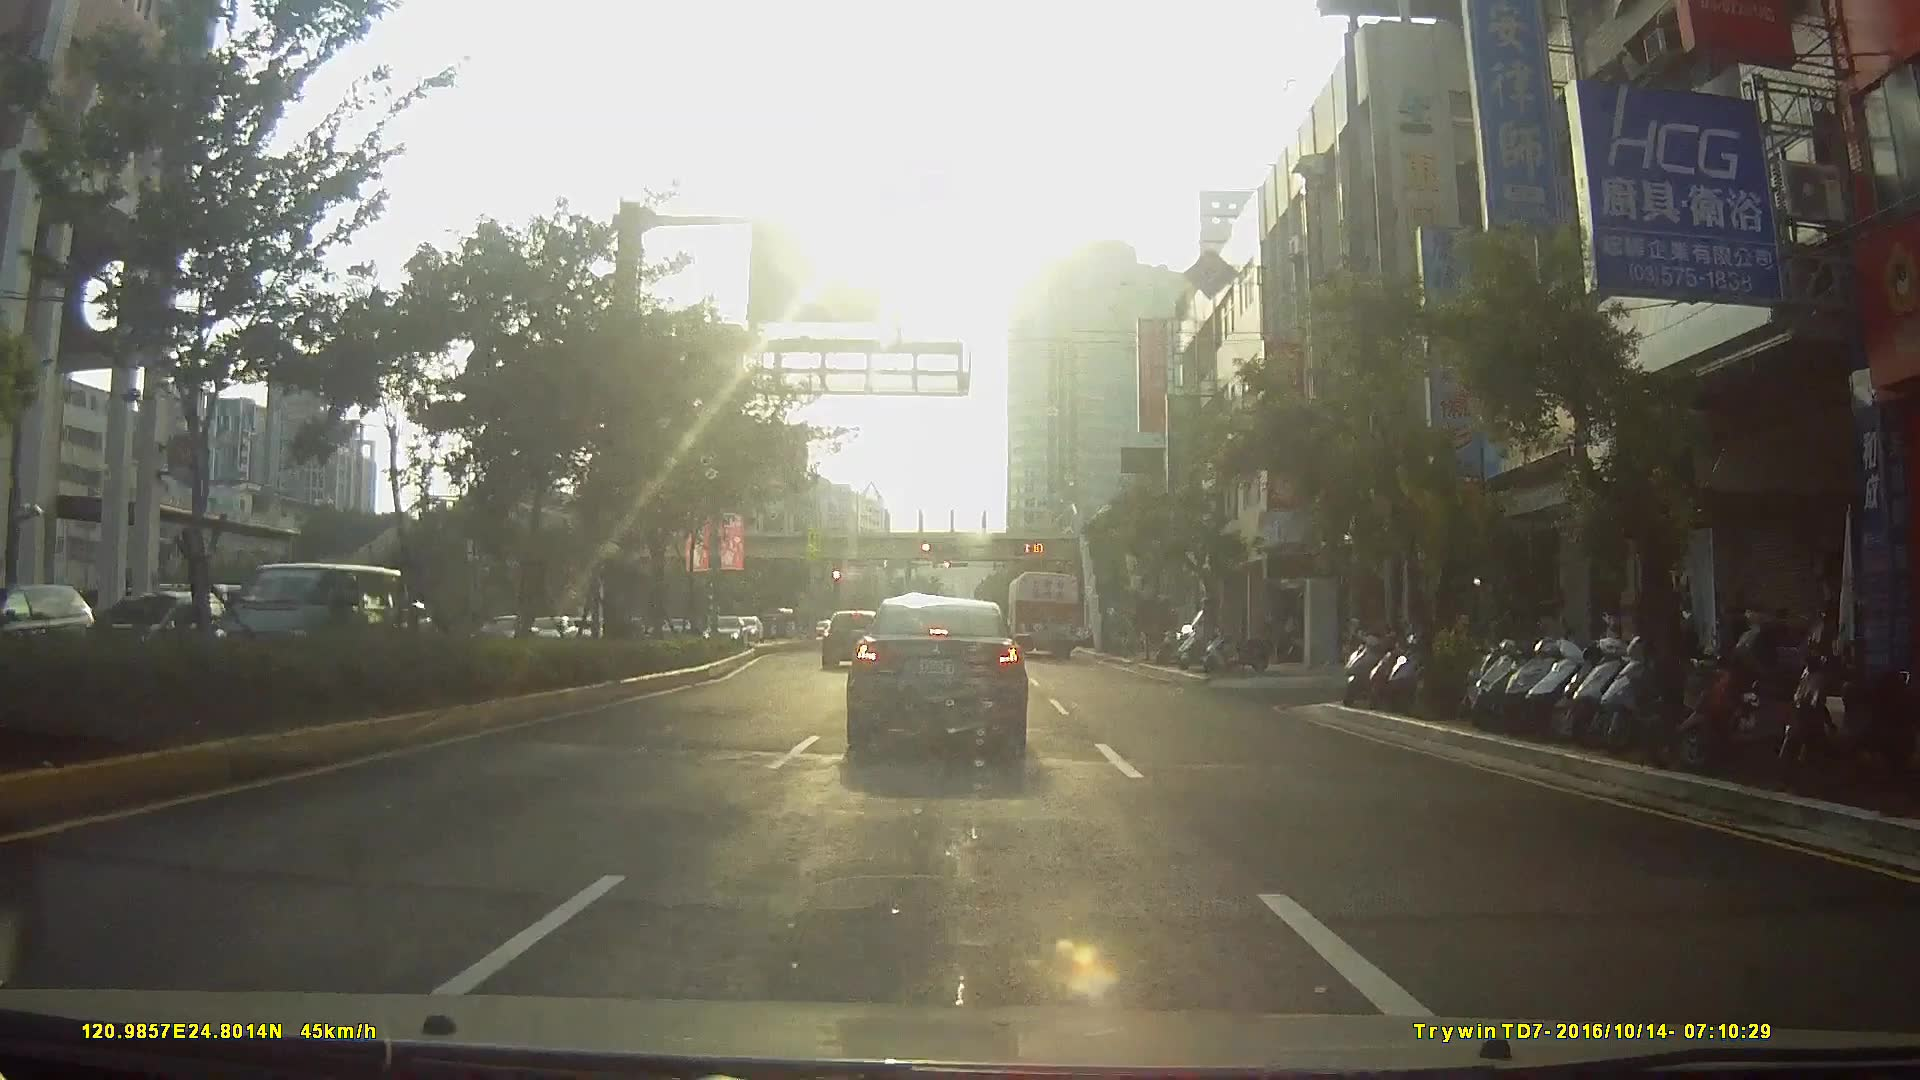vehicle: (844, 592, 1029, 756), (216, 560, 421, 675), (1005, 568, 1083, 661), (0, 580, 86, 659), (818, 609, 884, 674), (699, 615, 750, 653)
